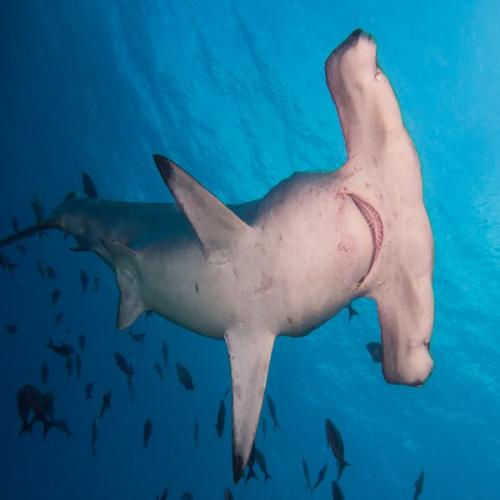shark-endangered: (0, 32, 439, 477)
